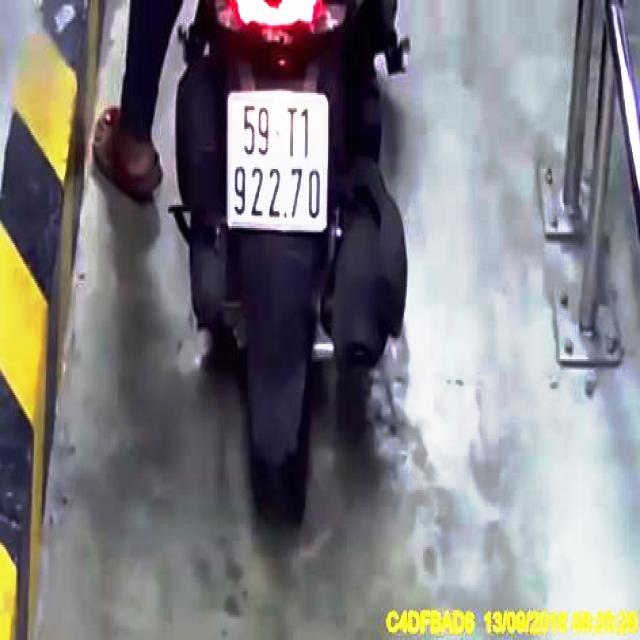license_plate: (229, 95, 328, 230)
